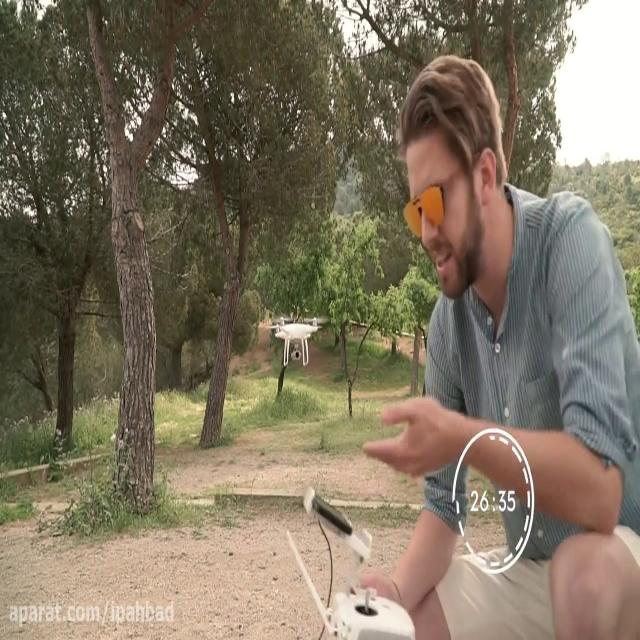drone: (266, 312, 330, 365)
